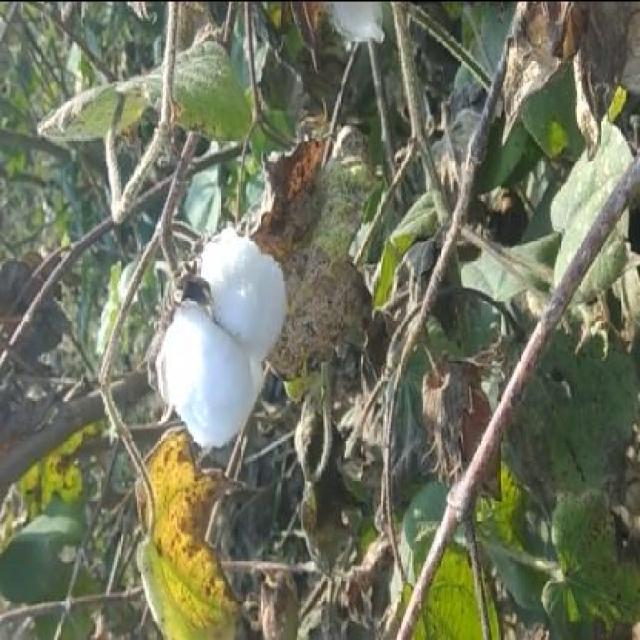cotton_ready: (151, 214, 289, 460)
